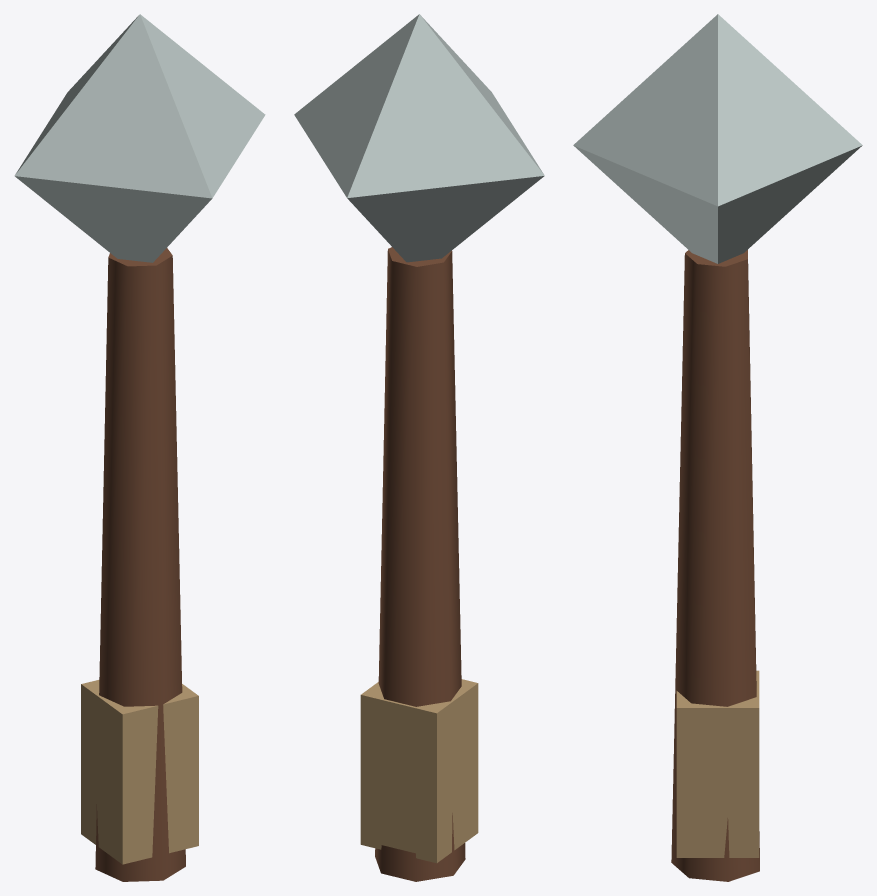
The model's file is wand-2.glb.
The picture shows the model from 3 angles, left to right: view 1: azimuth 30°, elevation 25°; view 2: azimuth 150°, elevation 25°; view 3: azimuth 270°, elevation 25°; orthographic projection.
Visible parts, largest first — view 1: piece_whole; view 2: piece_whole; view 3: piece_whole.
Boxes of the visible parts, box(x1,y1,x2,y2) form: piece_whole: box(14, 14, 265, 881); piece_whole: box(294, 14, 544, 881); piece_whole: box(573, 14, 862, 881).
Size of the model in its own units: 0.28 by 0.905 by 0.28.
